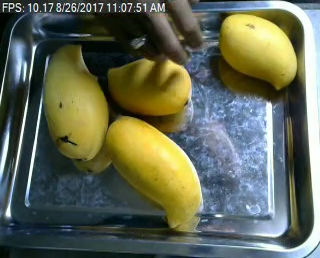Mango: (105, 111, 204, 228), (43, 43, 109, 161), (214, 13, 300, 91), (103, 52, 195, 117)
